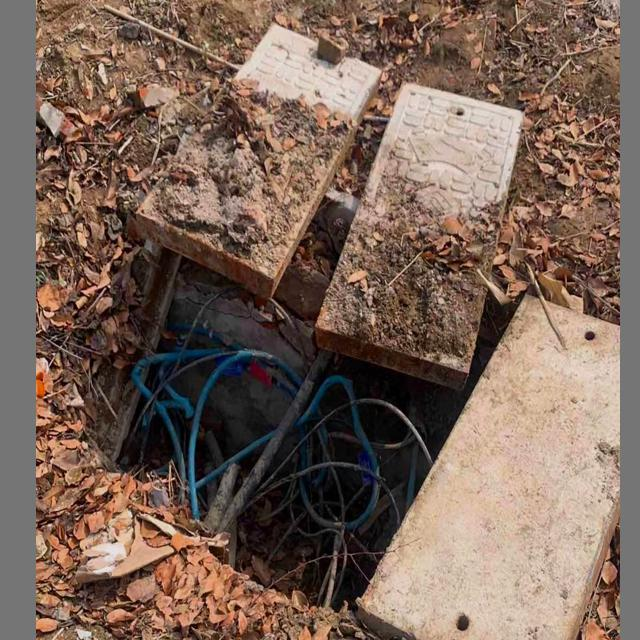uncovered: (67, 26, 608, 640)
